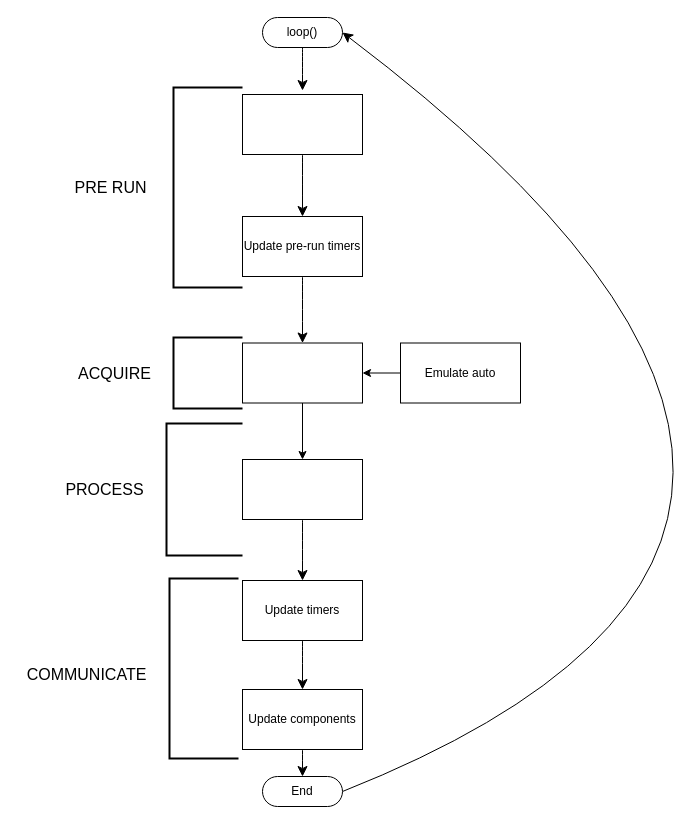
Some shapes in this 691 by 824 pixel diagram are drawn without their labels. The box of each missing label's shape, as (x1, y1, x2, y2) in pixels:
Fetch remote: (242, 342, 362, 403)
GlobalState update: (242, 458, 362, 520)
Reset States: (242, 94, 362, 154)
